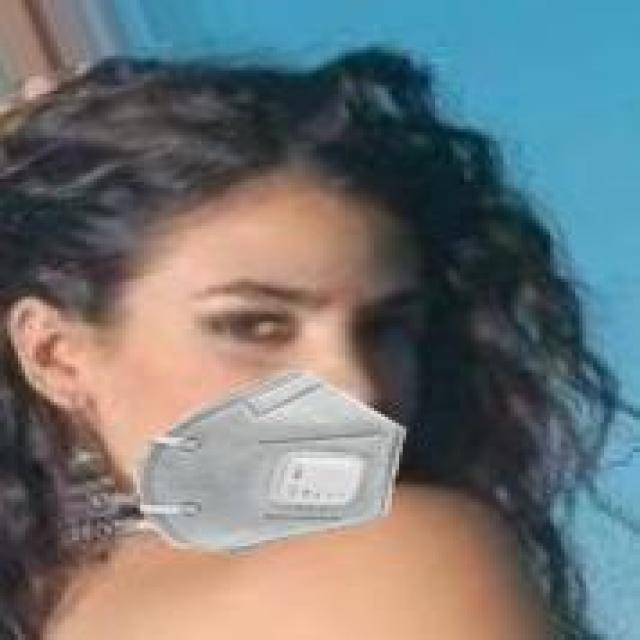mask: (72, 70, 457, 566)
